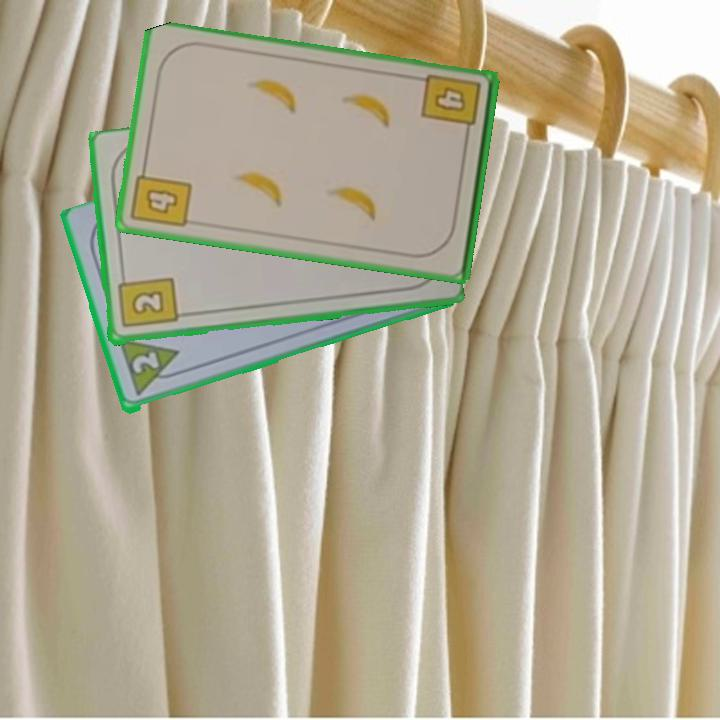2b: (114, 270, 179, 331)
2p: (128, 348, 162, 378)
4b: (418, 70, 484, 142), (128, 161, 194, 231)
